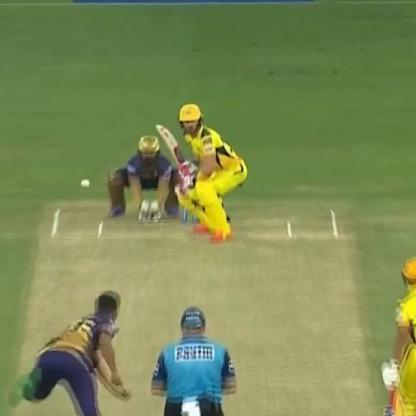ball: (78, 173, 92, 194)
bat: (146, 118, 200, 189), (374, 357, 404, 415)
pitch: (20, 204, 384, 415)
